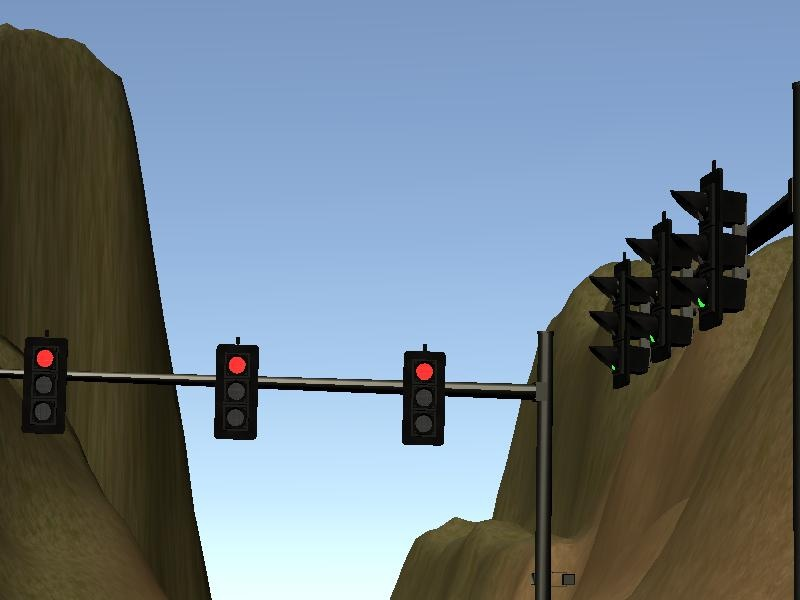red: (210, 334, 262, 442), (398, 342, 449, 450), (18, 332, 71, 431)
